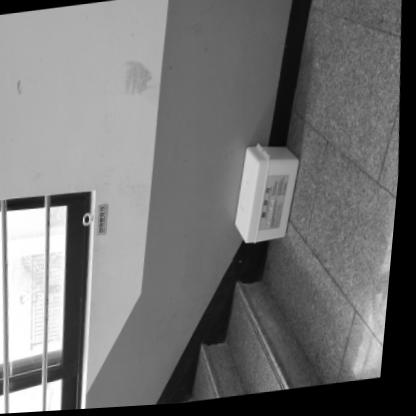DDL: (233, 143, 311, 246)
